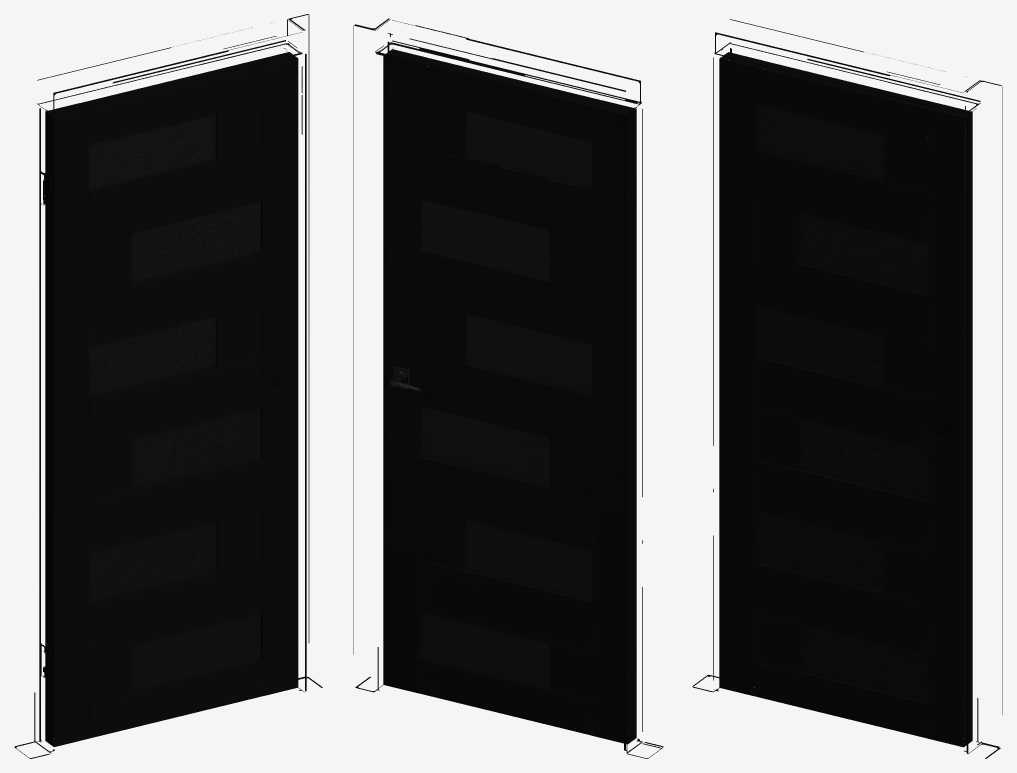
Rendered from InteriorDoor.fbx.
3 renders of one model, left to right at view 1: azimuth 30°, elevation 25°; view 2: azimuth 150°, elevation 25°; view 3: azimuth 330°, elevation 25°, orthographic.
Visible parts, largest first — view 1: Cube.003, Cube, Cube.001; view 2: Cube.003, Cube, Cube.001; view 3: Cube.003, Cube, Cube.001.
Part boxes in pixels (box(x1,y1,x2,y2)): Cube.003: box(45, 52, 298, 746); Cube: box(14, 14, 322, 758); Cube.001: box(35, 43, 302, 751); Cube.003: box(383, 49, 636, 744); Cube: box(353, 18, 663, 758); Cube.001: box(377, 42, 642, 751); Cube.003: box(719, 52, 972, 747); Cube: box(692, 19, 1002, 758); Cube.001: box(713, 48, 978, 751).
Size of the model in its own units: 100 by 215 by 14.88.
